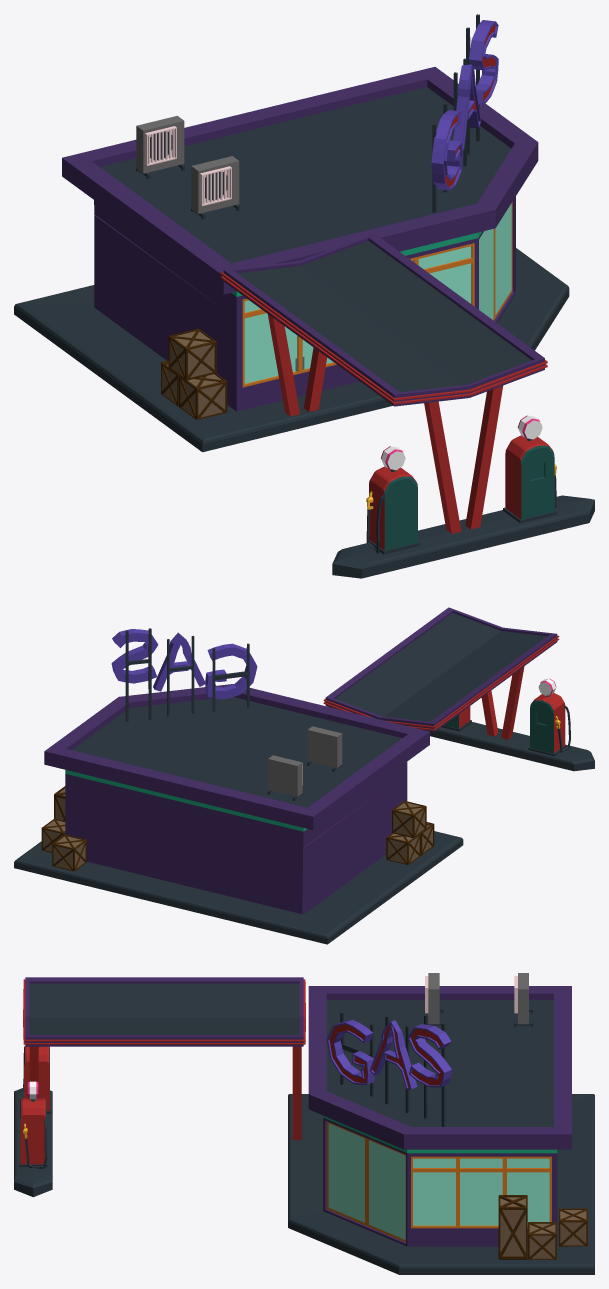
File: GasStation.fbx_It_s_so_gas.fbx
The picture shows the model from 3 angles, top to bottom: view 1: azimuth 30°, elevation 25°; view 2: azimuth 150°, elevation 25°; view 3: azimuth 270°, elevation 25°; orthographic projection. The views are drawn at different scales.
Visible parts, largest first — view 1: It's so gas; view 2: It's so gas; view 3: It's so gas.
Part boxes in pixels (x1,y1,x2,y2): It's so gas: [14, 14, 594, 578]; It's so gas: [14, 607, 594, 944]; It's so gas: [14, 973, 594, 1274].
Bounding box in the file's own units: 3606 × 2695 × 1554.
